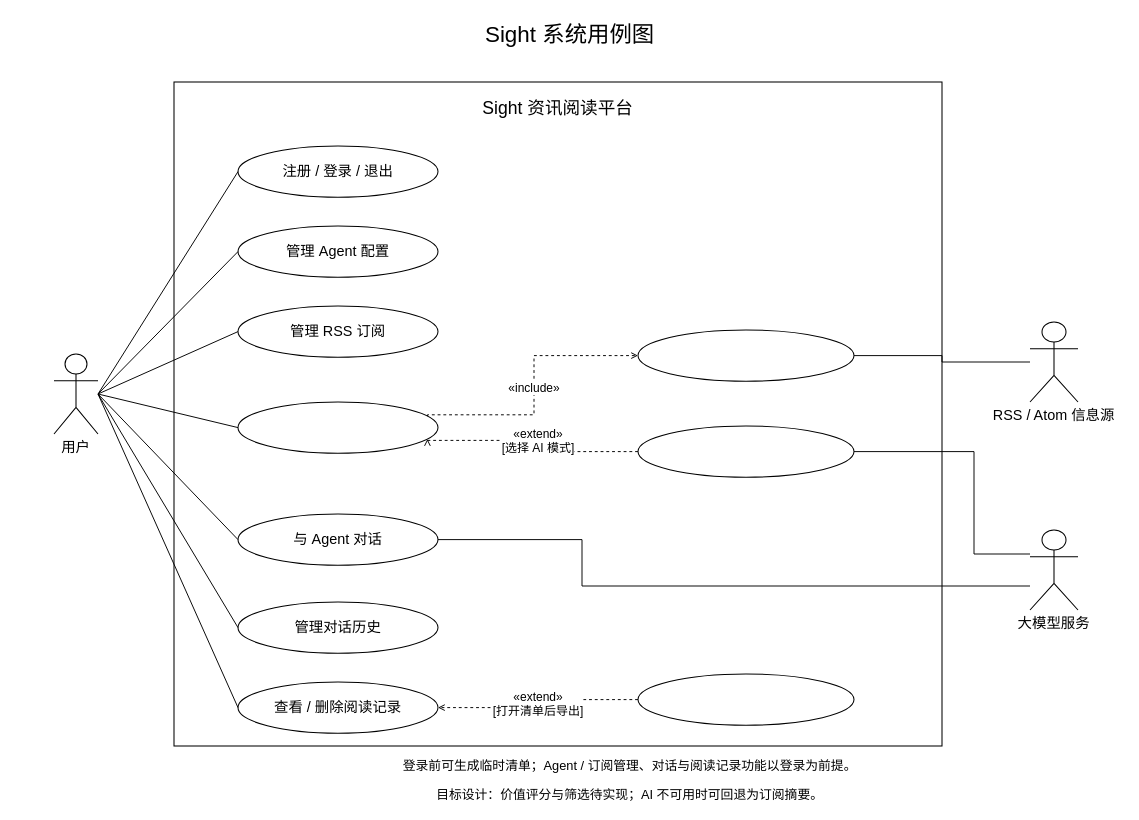
Some shapes in this 1139 by 820 pixel diagram are drawn without their labels. Here are the shapes that lost their labels. From the top down, the centre of each, then its label:
At point 745,355: "采集 RSS 内容".
At point 337,427: "生成阅读清单".
At point 745,451: "按偏好筛选并生成摘要".
At point 745,699: "导出阅读清单".
